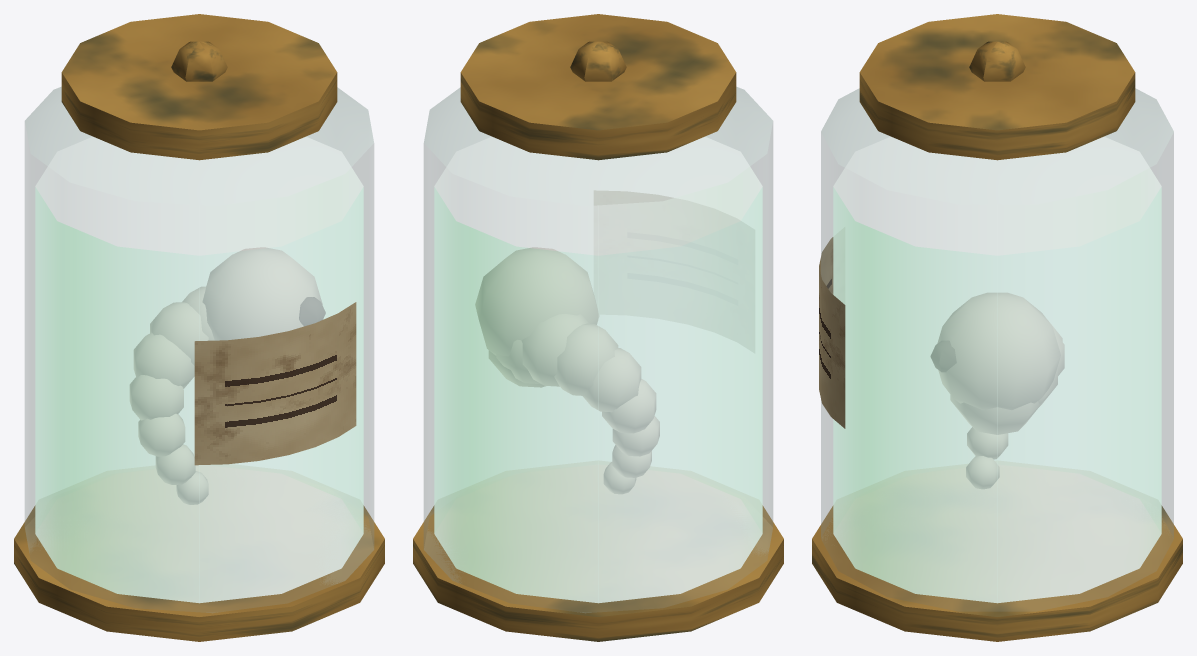
File: specimen_jar.glb
3 renders of one model, left to right at view 1: azimuth 30°, elevation 25°; view 2: azimuth 150°, elevation 25°; view 3: azimuth 270°, elevation 25°, orthographic.
Parts seen in each view (by area): view 1: specimen_jar; view 2: specimen_jar; view 3: specimen_jar.
Boxes of the visible parts, box(x1,y1,x2,y2) form: specimen_jar: box(14, 14, 384, 641); specimen_jar: box(413, 14, 783, 641); specimen_jar: box(812, 14, 1182, 641).
Size of the model in its own units: 0.42 by 0.652 by 0.42.
Materials: 6 (2 with a texture image).
